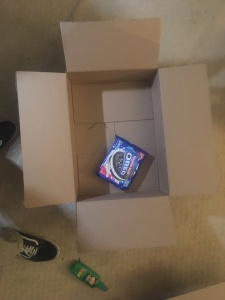innerbox: (65, 70, 170, 197)
outerbox: (21, 22, 214, 247)
product: (100, 140, 142, 187)
